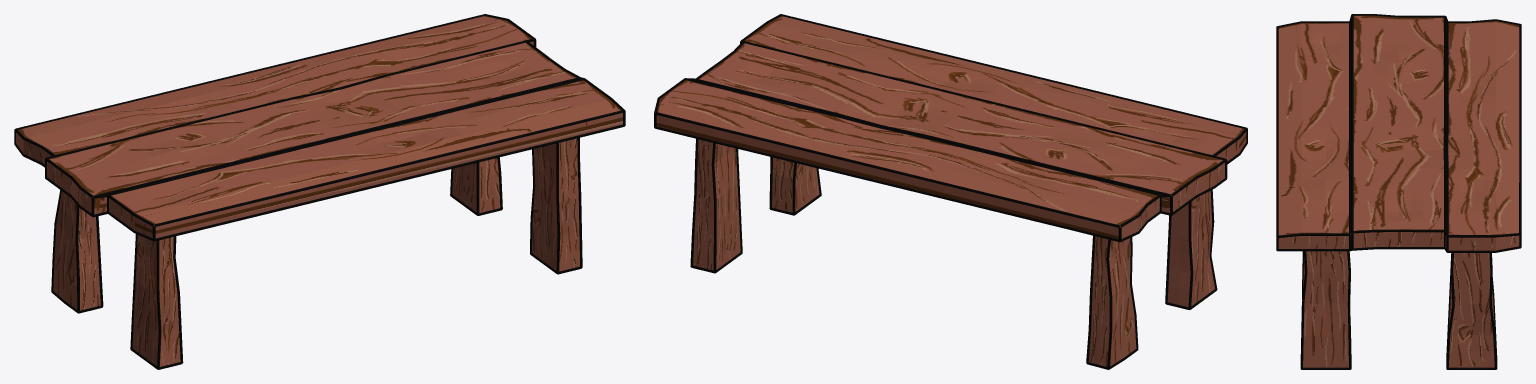
File: table_old.glb
3 renders of one model, left to right at view 1: azimuth 30°, elevation 25°; view 2: azimuth 150°, elevation 25°; view 3: azimuth 270°, elevation 25°, orthographic. The views are drawn at different scales.
Parts seen in each view (by area): view 1: Cube; view 2: Cube; view 3: Cube.
Boxes of the visible parts, x1,y1,x2,y2 form: Cube: (14, 14, 625, 369); Cube: (654, 14, 1247, 369); Cube: (1276, 14, 1521, 369).
Bounding box in the file's own units: 10.52 × 3.37 × 4.93.
Materials: 2 (1 with a texture image).
